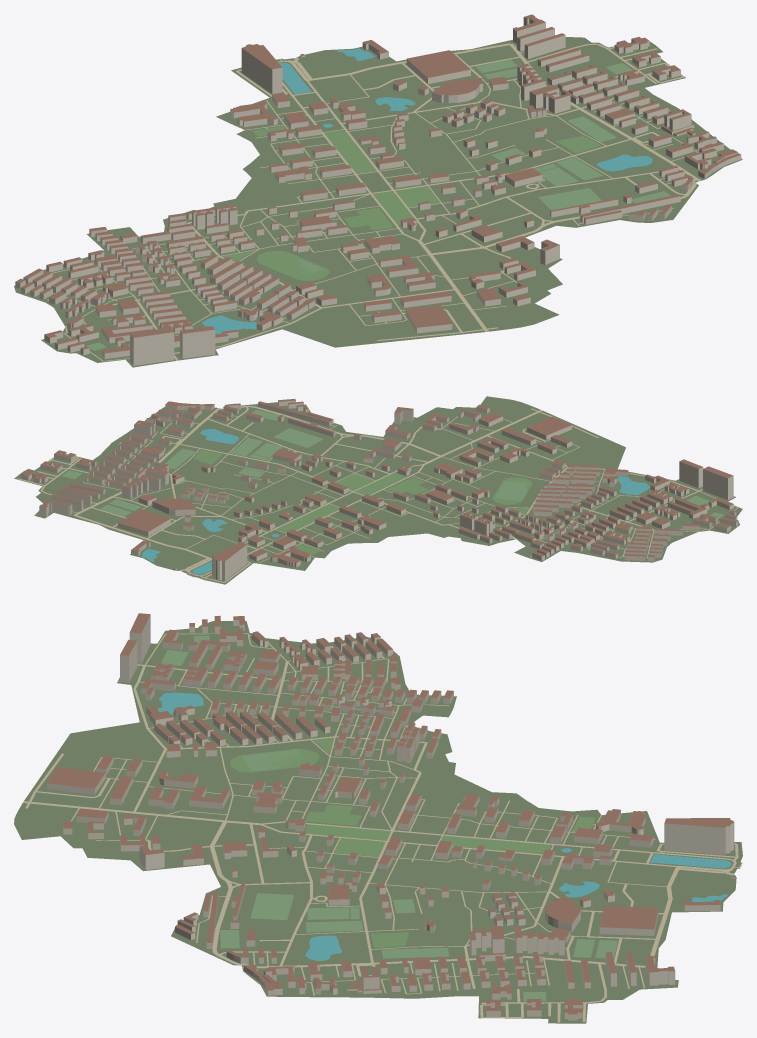
The picture shows the model from 3 angles, top to bottom: view 1: azimuth 30°, elevation 25°; view 2: azimuth 150°, elevation 25°; view 3: azimuth 270°, elevation 25°; orthographic projection. The views are drawn at different scales.
Parts seen in each view (by area): view 1: campus-ground, buildings, roofs, environment (×4); view 2: campus-ground, buildings, roofs, environment (×4); view 3: campus-ground, buildings, environment (×4), roofs.
Boxes of the visible parts, x1,y1,x2,y2 form: campus-ground: (14, 37, 742, 367); buildings: (15, 16, 741, 365); roofs: (15, 14, 740, 353); environment (×4): (34, 43, 701, 361); campus-ground: (14, 396, 742, 584); buildings: (21, 400, 738, 580); roofs: (22, 399, 737, 568); environment (×4): (17, 405, 737, 582); campus-ground: (14, 621, 742, 1023); buildings: (47, 614, 735, 1020); environment (×4): (23, 633, 742, 1022); roofs: (47, 613, 735, 1014).
Size of the model in its own units: 1691 by 59.6 by 1293.
